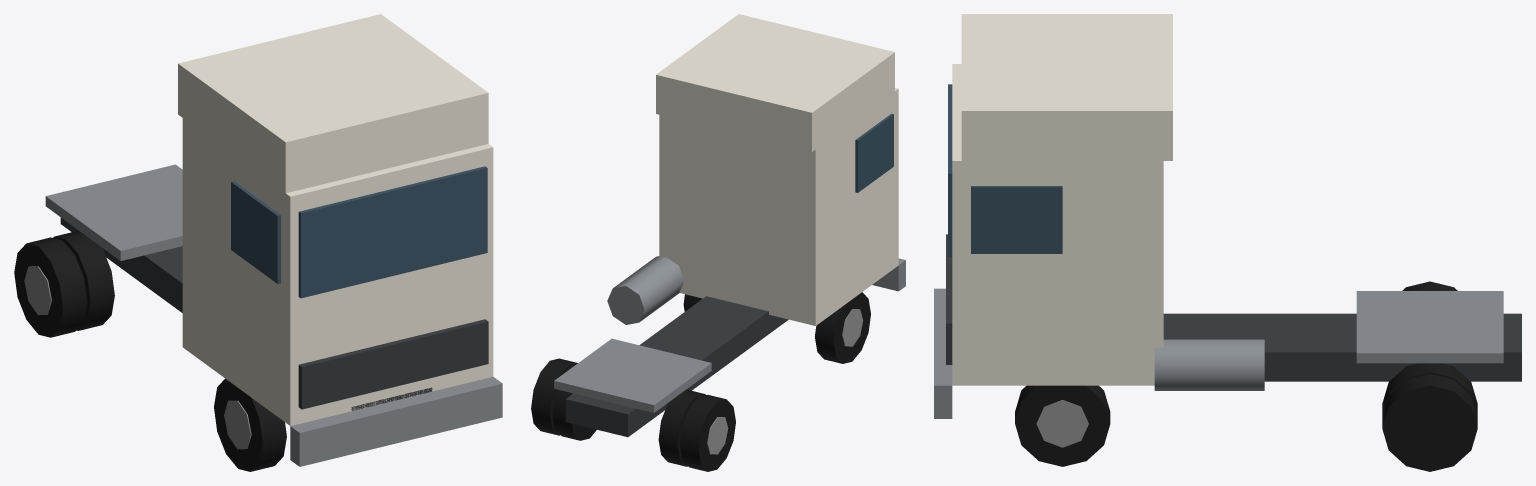
File: truck_tractor_0.glb
3 views of the same model, side by side, from view 1: azimuth 30°, elevation 25°; view 2: azimuth 150°, elevation 25°; view 3: azimuth 270°, elevation 25° (orthographic). The views are drawn at different scales.
Parts seen in each view (by area): view 1: truck_tractor_0, wheel_RL, wheel_FL; view 2: truck_tractor_0, wheel_RL, wheel_FL, wheel_RR; view 3: truck_tractor_0, wheel_RR, wheel_FR.
Boxes of the visible parts, bbox=[...] form: truck_tractor_0: bbox=[45, 14, 502, 466]; wheel_RL: bbox=[14, 230, 114, 337]; wheel_FL: bbox=[214, 378, 286, 471]; truck_tractor_0: bbox=[554, 14, 905, 437]; wheel_RL: bbox=[658, 389, 735, 471]; wheel_FL: bbox=[815, 292, 870, 363]; wheel_RR: bbox=[531, 358, 596, 440]; truck_tractor_0: bbox=[934, 14, 1521, 418]; wheel_RR: bbox=[1382, 363, 1477, 471]; wheel_FR: bbox=[1015, 385, 1110, 466].
Bounding box in the file's own units: 2.81 × 4.3 × 6.4.
